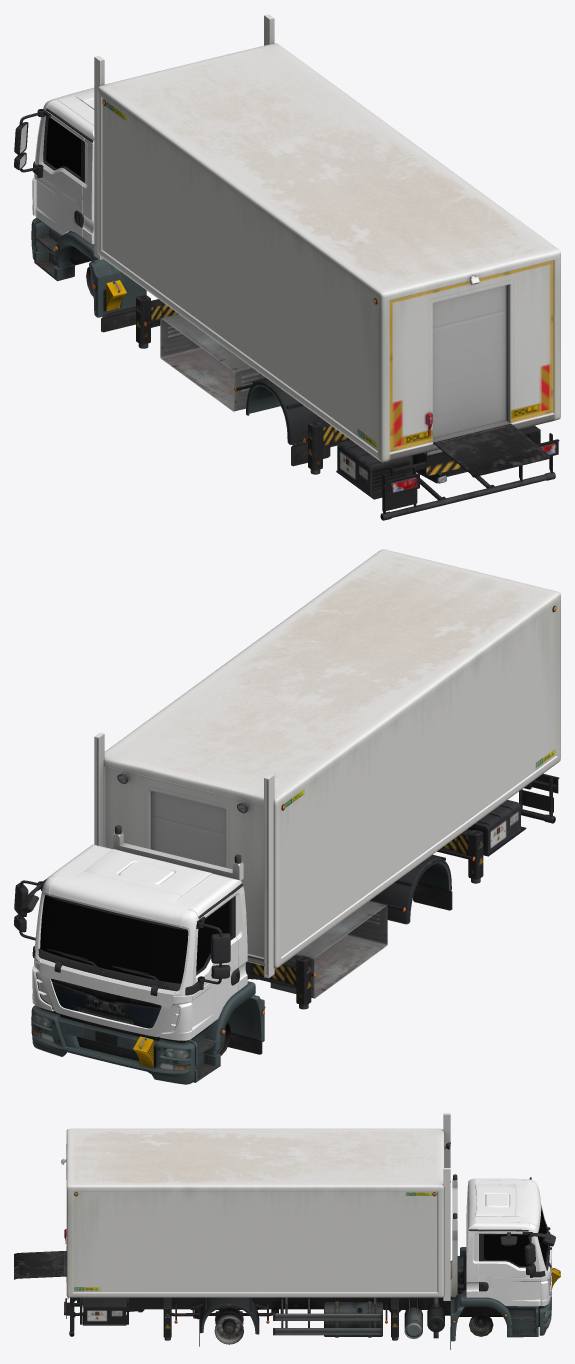
The model's file is lorry.fbx.
3 renders of one model, top to bottom at view 1: azimuth 30°, elevation 25°; view 2: azimuth 150°, elevation 25°; view 3: azimuth 270°, elevation 25°, orthographic. The views are drawn at different scales.
Parts seen in each view (by area): view 1: Container, Chassis, Bumber_Guard, Cabin, Lift_Gate, Cabin_PlasticTrim, Windows, Chassis_Rubber; view 2: Container, Cabin, Chassis, Bumber_Guard, Windows, Cabin_PlasticTrim, Chassis_Rubber, Metal_Trim; view 3: Container, Chassis, Cabin, Bumber_Guard, Cabin_PlasticTrim, Lift_Gate, Windows, RRWheel0_0.
Part boxes in pixels (x1,y1,x2,y2): Container: [94, 14, 560, 475]; Chassis: [36, 236, 559, 520]; Bumber_Guard: [31, 217, 554, 491]; Cabin: [32, 87, 94, 244]; Lift_Gate: [433, 424, 550, 477]; Cabin_PlasticTrim: [14, 108, 93, 227]; Windows: [46, 118, 80, 176]; Chassis_Rubber: [101, 306, 330, 466]; Container: [94, 549, 560, 978]; Cabin: [32, 844, 247, 1040]; Chassis: [41, 773, 559, 1078]; Bumber_Guard: [31, 855, 451, 1084]; Windows: [40, 895, 229, 983]; Cabin_PlasticTrim: [14, 862, 243, 1028]; Chassis_Rubber: [115, 825, 452, 1054]; Metal_Trim: [51, 978, 161, 1008]; Container: [61, 1113, 450, 1300]; Chassis: [65, 1179, 549, 1340]; Cabin: [466, 1178, 551, 1306]; Bumber_Guard: [64, 1247, 551, 1341]; Cabin_PlasticTrim: [469, 1177, 555, 1291]; Lift_Gate: [14, 1251, 66, 1279]; Windows: [484, 1206, 547, 1266]; RRWheel0_0: [214, 1307, 243, 1344].
Bounding box in the file's own units: 275 × 338 × 913.
